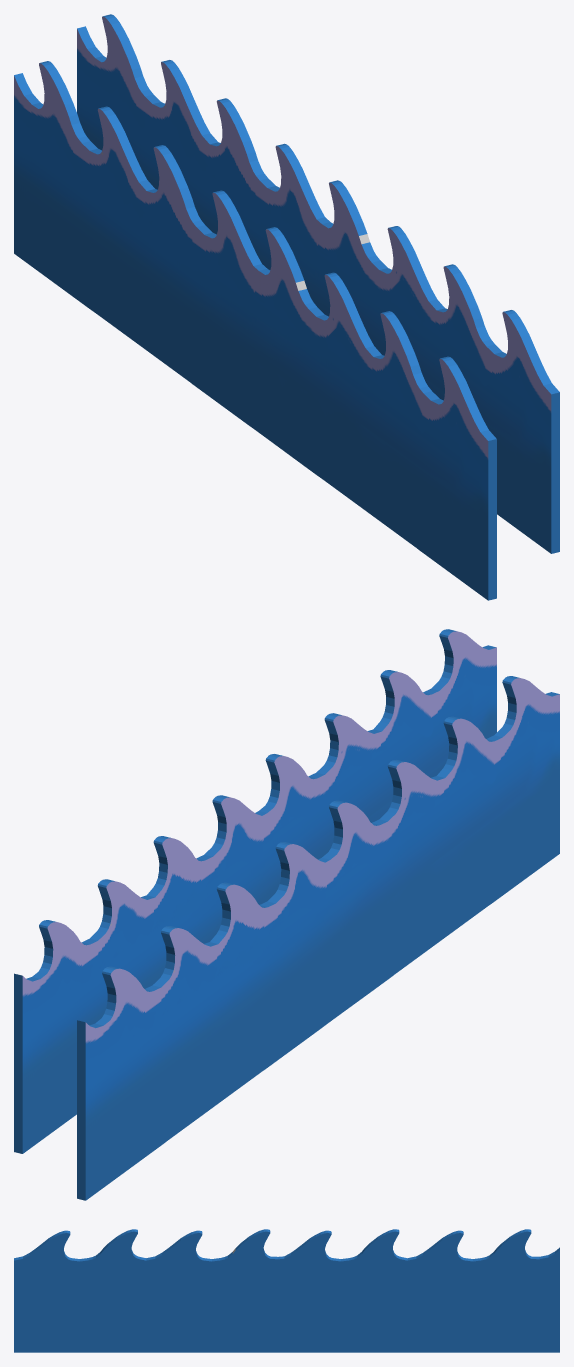
The model's file is waves.fbx.
The picture shows the model from 3 angles, top to bottom: view 1: azimuth 30°, elevation 25°; view 2: azimuth 150°, elevation 25°; view 3: azimuth 270°, elevation 25°; orthographic projection. The views are drawn at different scales.
Visible parts, largest first — view 1: wave1, wave2; view 2: wave1, wave2; view 3: wave2, wave1.
Boxes of the visible parts, x1,y1,x2,y2 form: wave1: (14, 61, 496, 600); wave2: (77, 14, 559, 553); wave1: (77, 676, 559, 1200); wave2: (14, 629, 496, 1153); wave2: (14, 1229, 559, 1352); wave1: (67, 1234, 526, 1352).
Size of the model in its own units: 114 by 365 by 1301.
